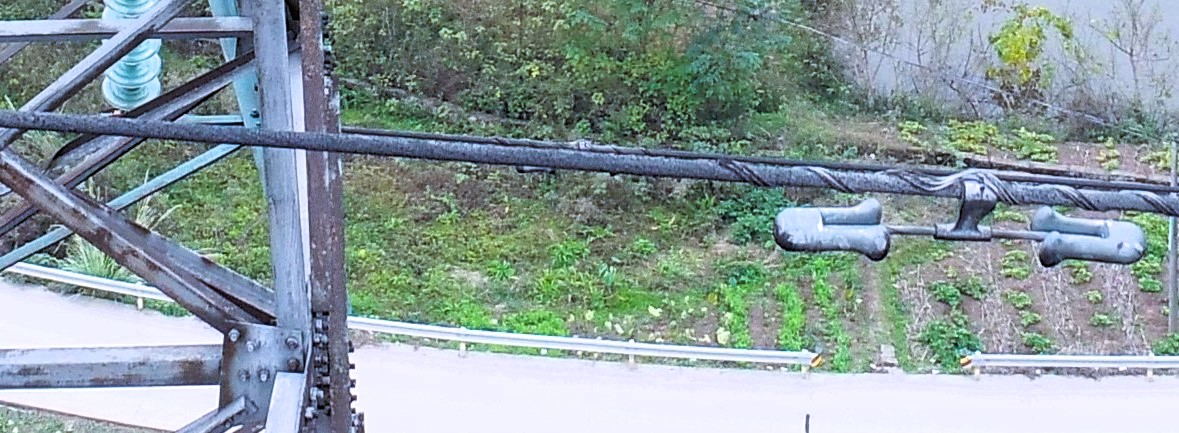Shockproof hammer: (755, 135, 1156, 286)
